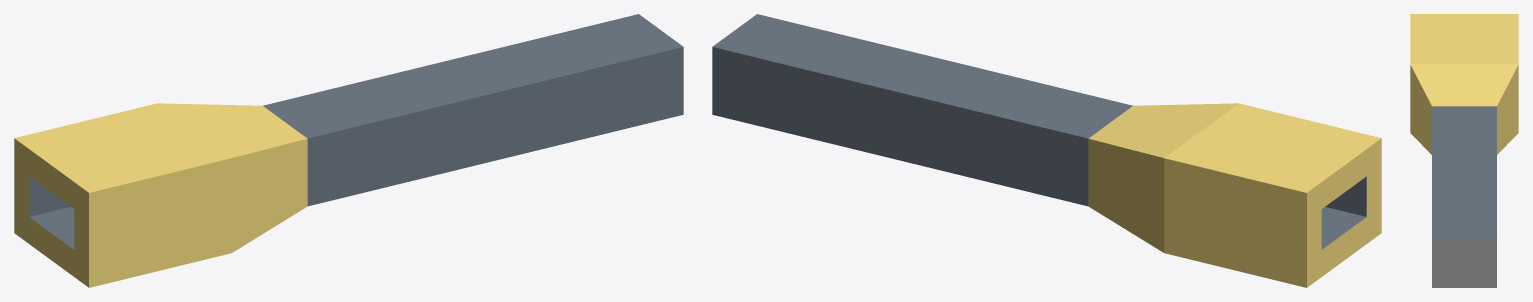
File: Barrel_C.fbx
The picture shows the model from 3 angles, left to right: view 1: azimuth 30°, elevation 25°; view 2: azimuth 150°, elevation 25°; view 3: azimuth 270°, elevation 25°; orthographic projection. The views are drawn at different scales.
Visible parts, largest first — view 1: polySurface114; view 2: polySurface114; view 3: polySurface114.
Part boxes in pixels (box(x1,y1,x2,y2)): polySurface114: box(14, 14, 683, 287); polySurface114: box(712, 14, 1381, 287); polySurface114: box(1410, 14, 1518, 287).
Size of the model in its own units: 47 by 7 by 10.
